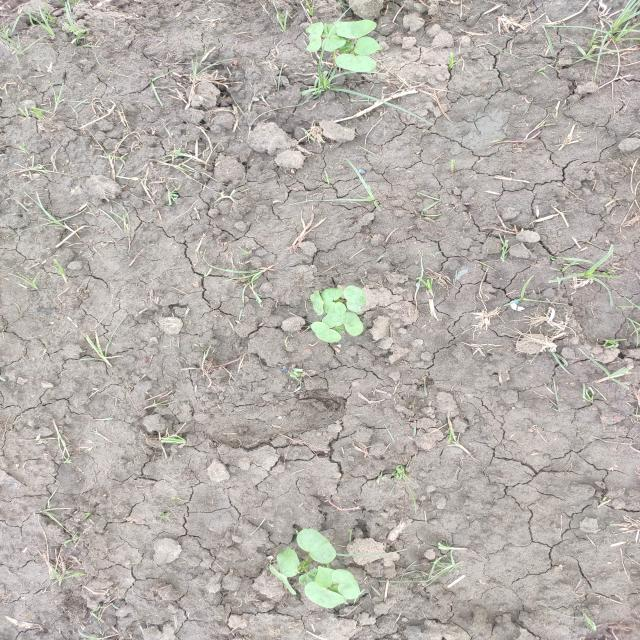seedling: (297, 528, 336, 564), (304, 582, 345, 608), (331, 569, 361, 599), (269, 564, 297, 595), (336, 20, 377, 39), (336, 54, 376, 72), (277, 546, 299, 577), (311, 321, 341, 343), (343, 285, 366, 312), (341, 312, 364, 336), (354, 36, 383, 55), (306, 22, 323, 53), (315, 566, 335, 588), (321, 35, 346, 52), (310, 290, 324, 315), (299, 568, 318, 586), (324, 301, 346, 316), (322, 312, 342, 328), (321, 289, 343, 302), (322, 23, 337, 37), (338, 41, 354, 53), (333, 326, 345, 334)
